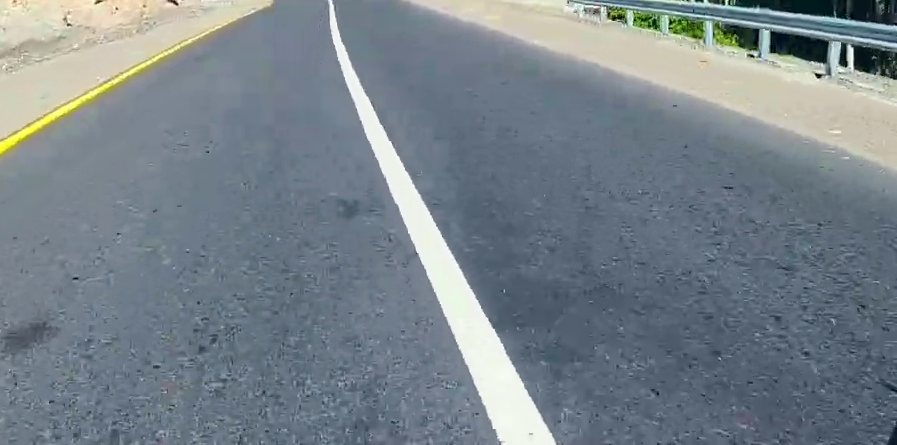left: (220, 39, 632, 389)
